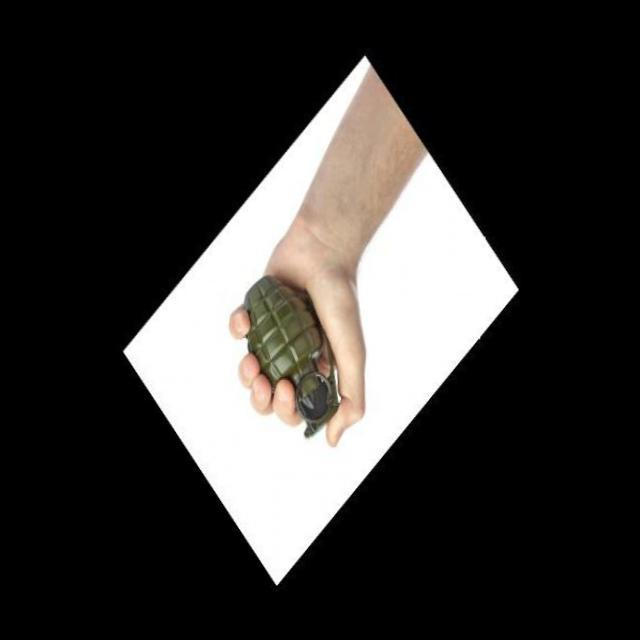grenade: (225, 264, 348, 438)
